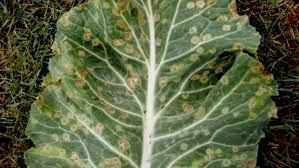Bok-Choy-Diseased: (43, 9, 258, 167)
